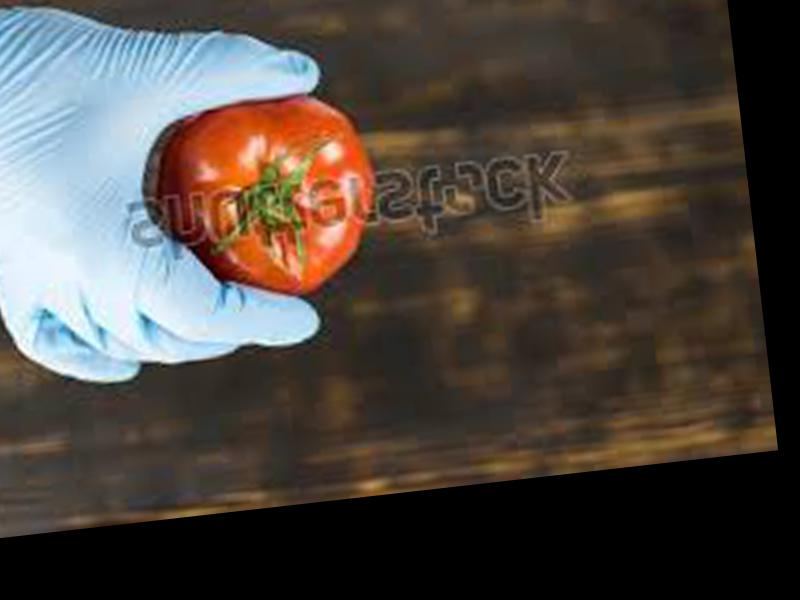Tomato: (145, 85, 388, 310)
